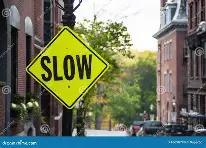Slow: (30, 29, 107, 105)
